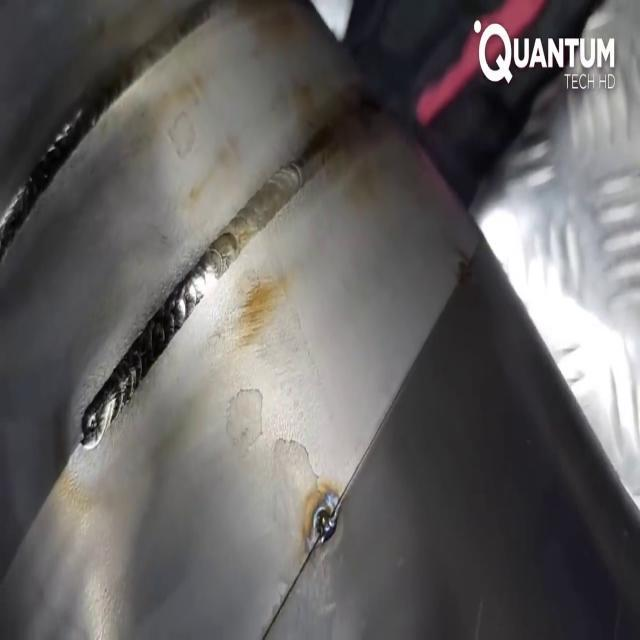Good Welding: (213, 126, 325, 288), (94, 283, 212, 413)
